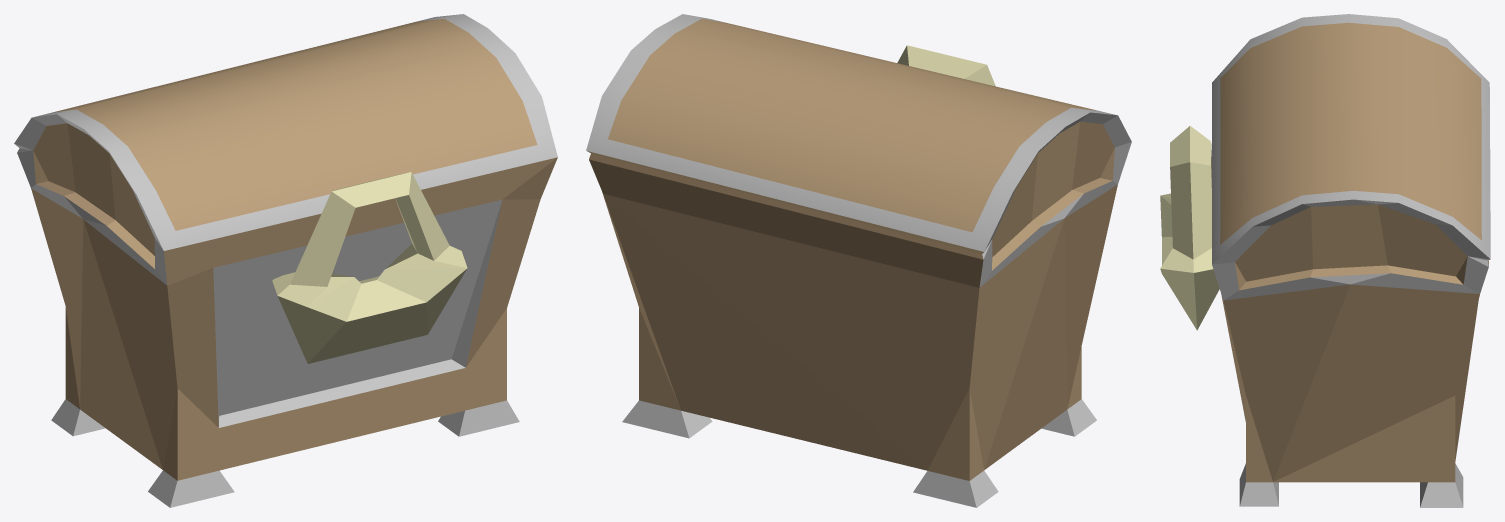
The model's file is chest.fbx.
3 renders of one model, left to right at view 1: azimuth 30°, elevation 25°; view 2: azimuth 150°, elevation 25°; view 3: azimuth 270°, elevation 25°, orthographic. The views are drawn at different scales.
Parts seen in each view (by area): view 1: pCube6; view 2: pCube6; view 3: pCube6.
Part boxes in pixels (x1,y1,x2,y2): pCube6: (14,14,557,507); pCube6: (586,14,1131,507); pCube6: (1160,14,1490,507).
Size of the model in its own units: 1 by 0.8046 by 0.7527.
